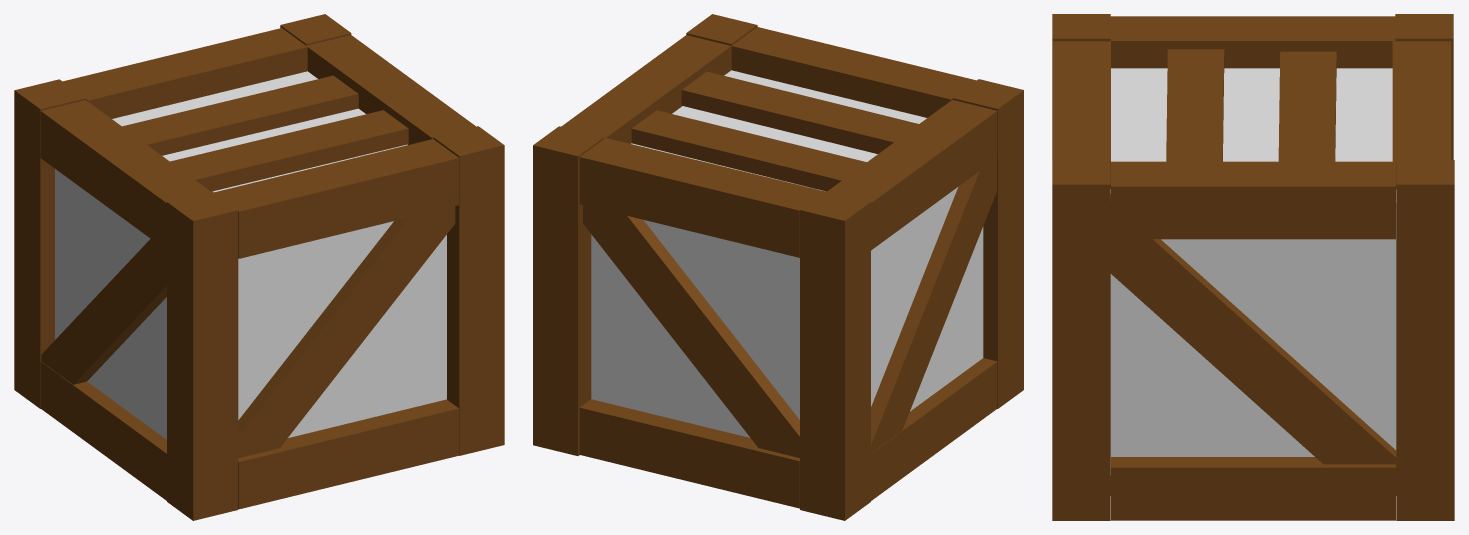
File: chest-optimized-glow.fbx
3 renders of one model, left to right at view 1: azimuth 30°, elevation 25°; view 2: azimuth 150°, elevation 25°; view 3: azimuth 270°, elevation 25°, orthographic. The views are drawn at different scales.
Visible parts, largest first — view 1: OuterCrate, Glow; view 2: OuterCrate, Glow; view 3: OuterCrate, Glow.
Boxes of the visible parts, <box> form: OuterCrate: <box>14,14,504,520</box>; Glow: <box>55,71,446,439</box>; OuterCrate: <box>533,14,1023,520</box>; Glow: <box>591,70,983,437</box>; OuterCrate: <box>1052,14,1454,520</box>; Glow: <box>1110,68,1396,475</box>.
Bounding box in the file's own units: 298 × 274 × 297.
